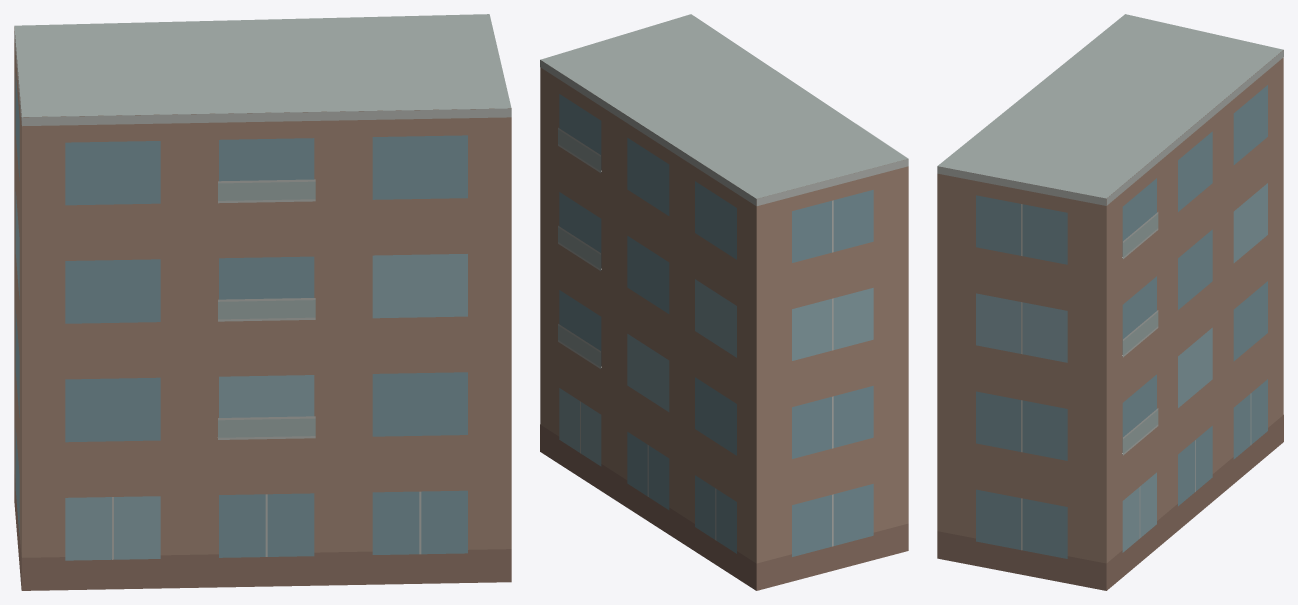
The model's file is survey-upis-32641309.glb.
3 renders of one model, left to right at view 1: azimuth 30°, elevation 25°; view 2: azimuth 150°, elevation 25°; view 3: azimuth 270°, elevation 25°, orthographic. The views are drawn at different scales.
Visible parts, largest first — view 1: survey-upis-32641309.tmp; view 2: survey-upis-32641309.tmp; view 3: survey-upis-32641309.tmp.
Part boxes in pixels (x1,y1,x2,y2): survey-upis-32641309.tmp: [14, 14, 511, 590]; survey-upis-32641309.tmp: [540, 14, 908, 590]; survey-upis-32641309.tmp: [937, 14, 1283, 590].
Size of the model in its own units: 12.92 by 12.8 by 10.25.
